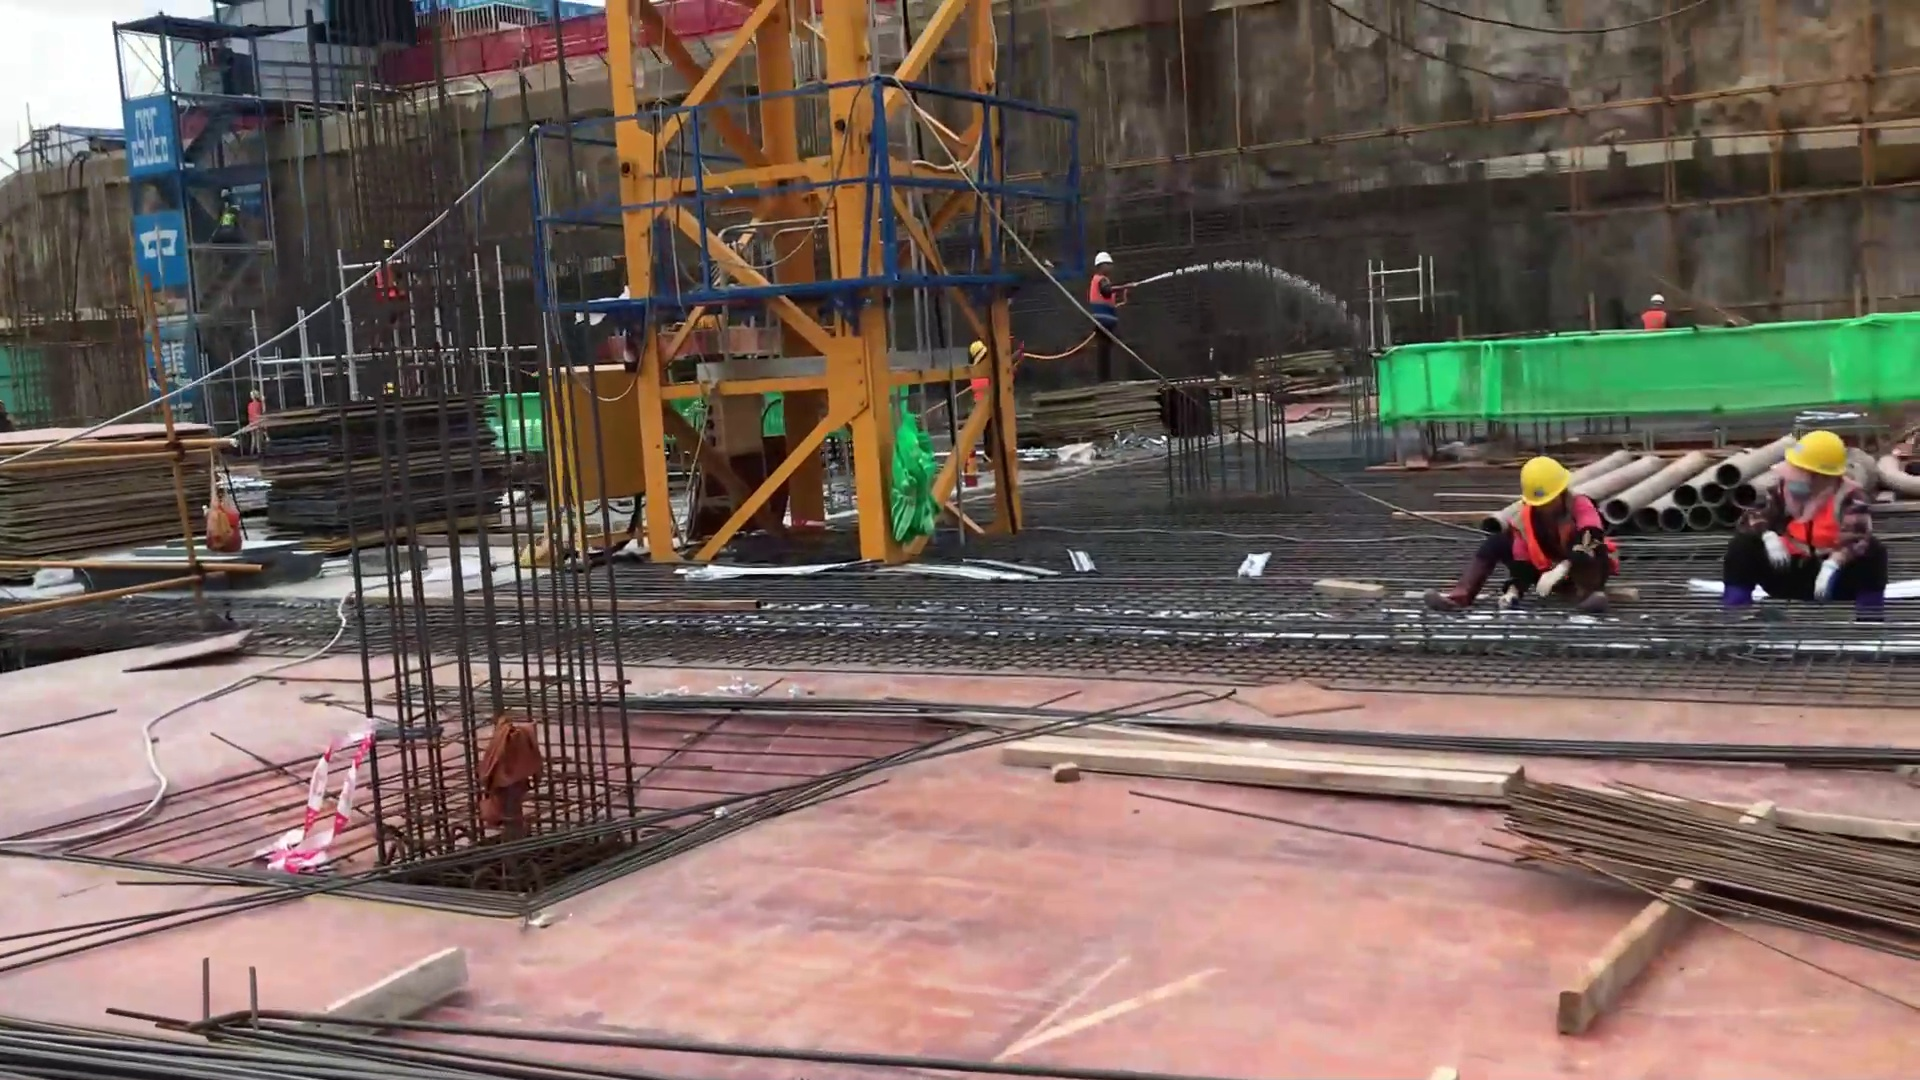board: (14, 381, 243, 584)
ebox: (540, 329, 681, 575)
helmet: (1777, 426, 1861, 489), (1511, 446, 1575, 519), (963, 333, 993, 364), (1089, 246, 1120, 276), (1650, 285, 1671, 307)
person: (1428, 442, 1627, 612), (1713, 431, 1890, 616), (1082, 253, 1124, 383), (1632, 291, 1674, 333)
rebar: (1480, 706, 1920, 971)
vest: (1766, 485, 1878, 575), (1517, 498, 1613, 573)
